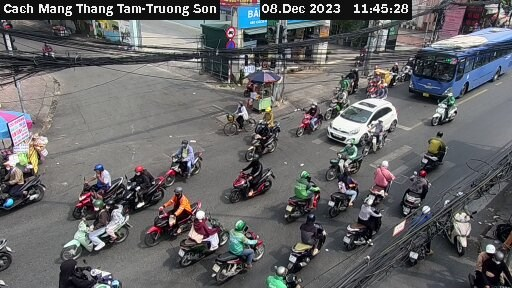bus: (409, 27, 512, 98)
car: (331, 97, 396, 144)
motorbike: (61, 193, 131, 258), (213, 215, 268, 279), (176, 205, 227, 264), (145, 186, 203, 234), (52, 251, 127, 288), (219, 161, 278, 206), (71, 160, 130, 204), (2, 156, 47, 212), (282, 217, 332, 265), (342, 197, 388, 248), (122, 159, 166, 211), (162, 143, 214, 182), (277, 174, 326, 215), (439, 194, 479, 244), (360, 162, 406, 203), (320, 174, 364, 212), (400, 171, 435, 212), (327, 146, 366, 178), (417, 135, 453, 169), (243, 130, 284, 158), (431, 96, 467, 125), (364, 119, 393, 151), (294, 106, 327, 132), (319, 88, 350, 113), (337, 67, 367, 88)
